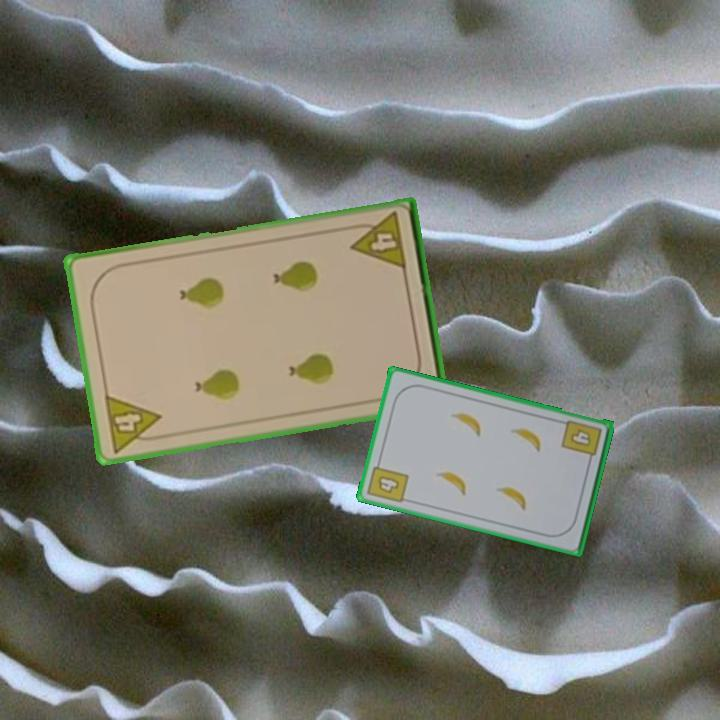4b: (364, 456, 411, 506), (558, 417, 604, 466)
4p: (101, 391, 167, 456), (345, 209, 409, 274)
